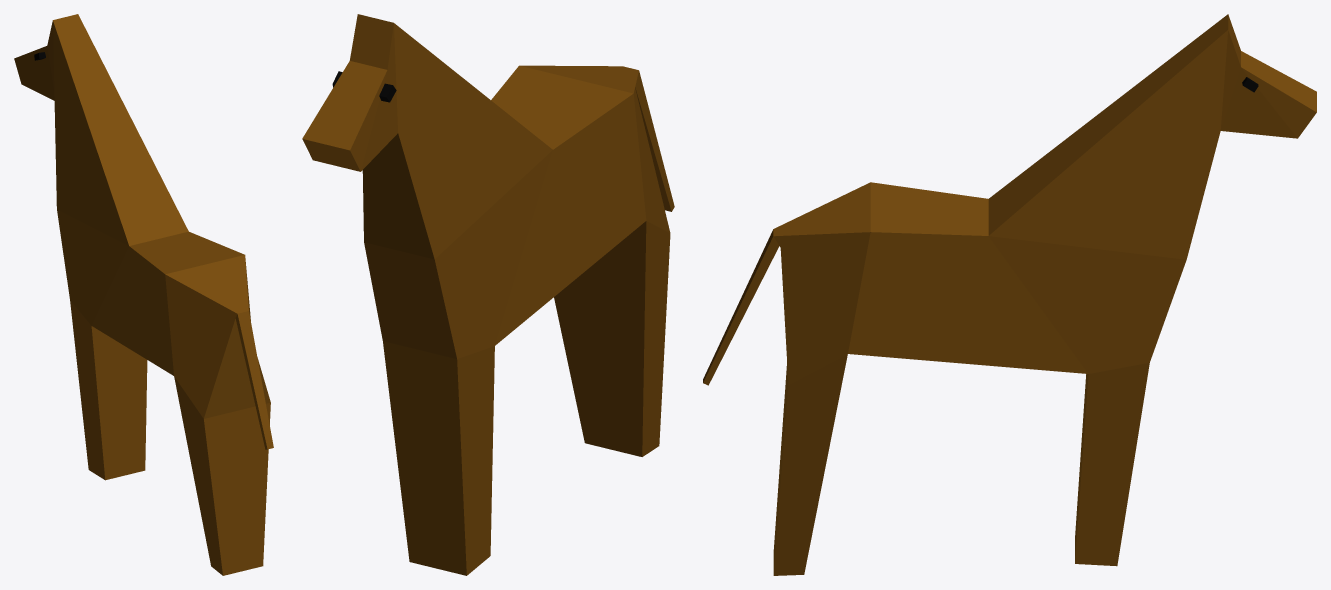
The model's file is Medieval.fbx_Horse.fbx.
The picture shows the model from 3 angles, left to right: view 1: azimuth 30°, elevation 25°; view 2: azimuth 150°, elevation 25°; view 3: azimuth 270°, elevation 25°; orthographic projection. The views are drawn at different scales.
Parts seen in each view (by area): view 1: Horse.001; view 2: Horse.001; view 3: Horse.001.
Part boxes in pixels (bbox=[...]): Horse.001: bbox=[14, 14, 273, 575]; Horse.001: bbox=[302, 14, 674, 575]; Horse.001: bbox=[703, 14, 1316, 575].
Bounding box in the file's own units: 55.84 × 290 × 283.
